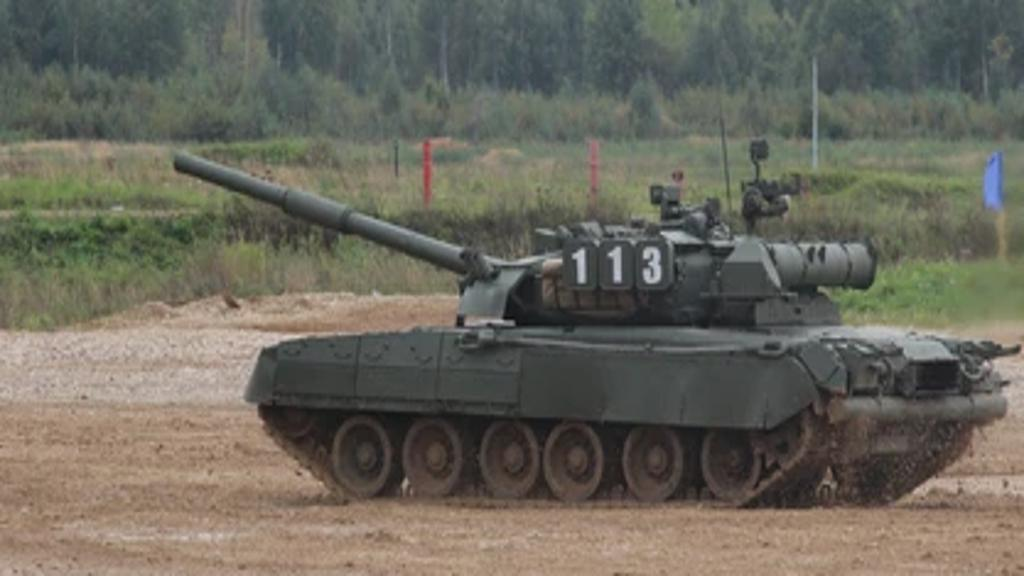TANK: (160, 145, 1011, 512)
